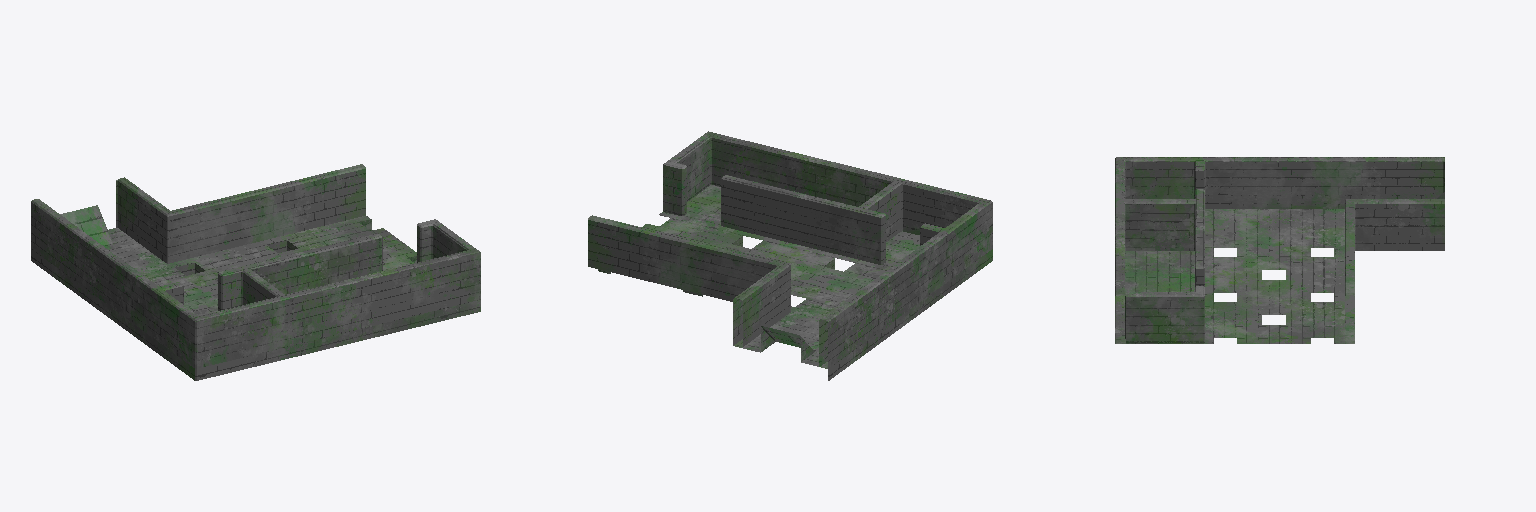
3 views of the same model, side by side, from view 1: azimuth 30°, elevation 25°; view 2: azimuth 150°, elevation 25°; view 3: azimuth 270°, elevation 25° (orthographic).
Visible parts, largest first — view 1: Cube.012, Cube.010, Cube.011; view 2: Cube.012, Cube.010, Cube.011; view 3: Cube.012, Cube.010, Cube.011.
Boxes of the visible parts, x1=… form: Cube.012: x1=31, y1=199, x2=480, y2=368; Cube.010: x1=31, y1=205, x2=480, y2=380; Cube.011: x1=116, y1=164, x2=365, y2=263; Cube.012: x1=663, y1=131, x2=992, y2=368; Cube.010: x1=598, y1=185, x2=992, y2=380; Cube.011: x1=588, y1=215, x2=790, y2=347; Cube.012: x1=1115, y1=157, x2=1444, y2=343; Cube.010: x1=1120, y1=192, x2=1444, y2=343; Cube.011: x1=1345, y1=199, x2=1444, y2=343.
Bounding box in the file's own units: 99 × 20 × 99.
2 materials, 2 textured.